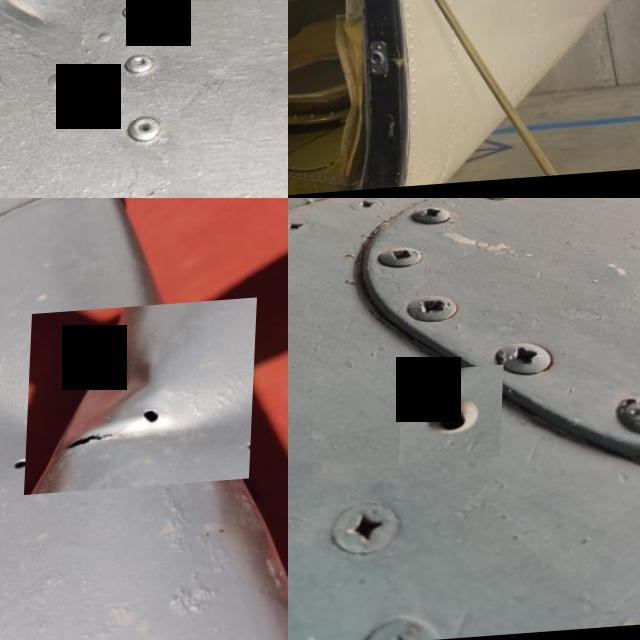Crack: (152, 421, 234, 462)
Dent: (28, 306, 258, 500), (0, 0, 88, 75)
Missing_Fastener: (403, 371, 507, 469)
